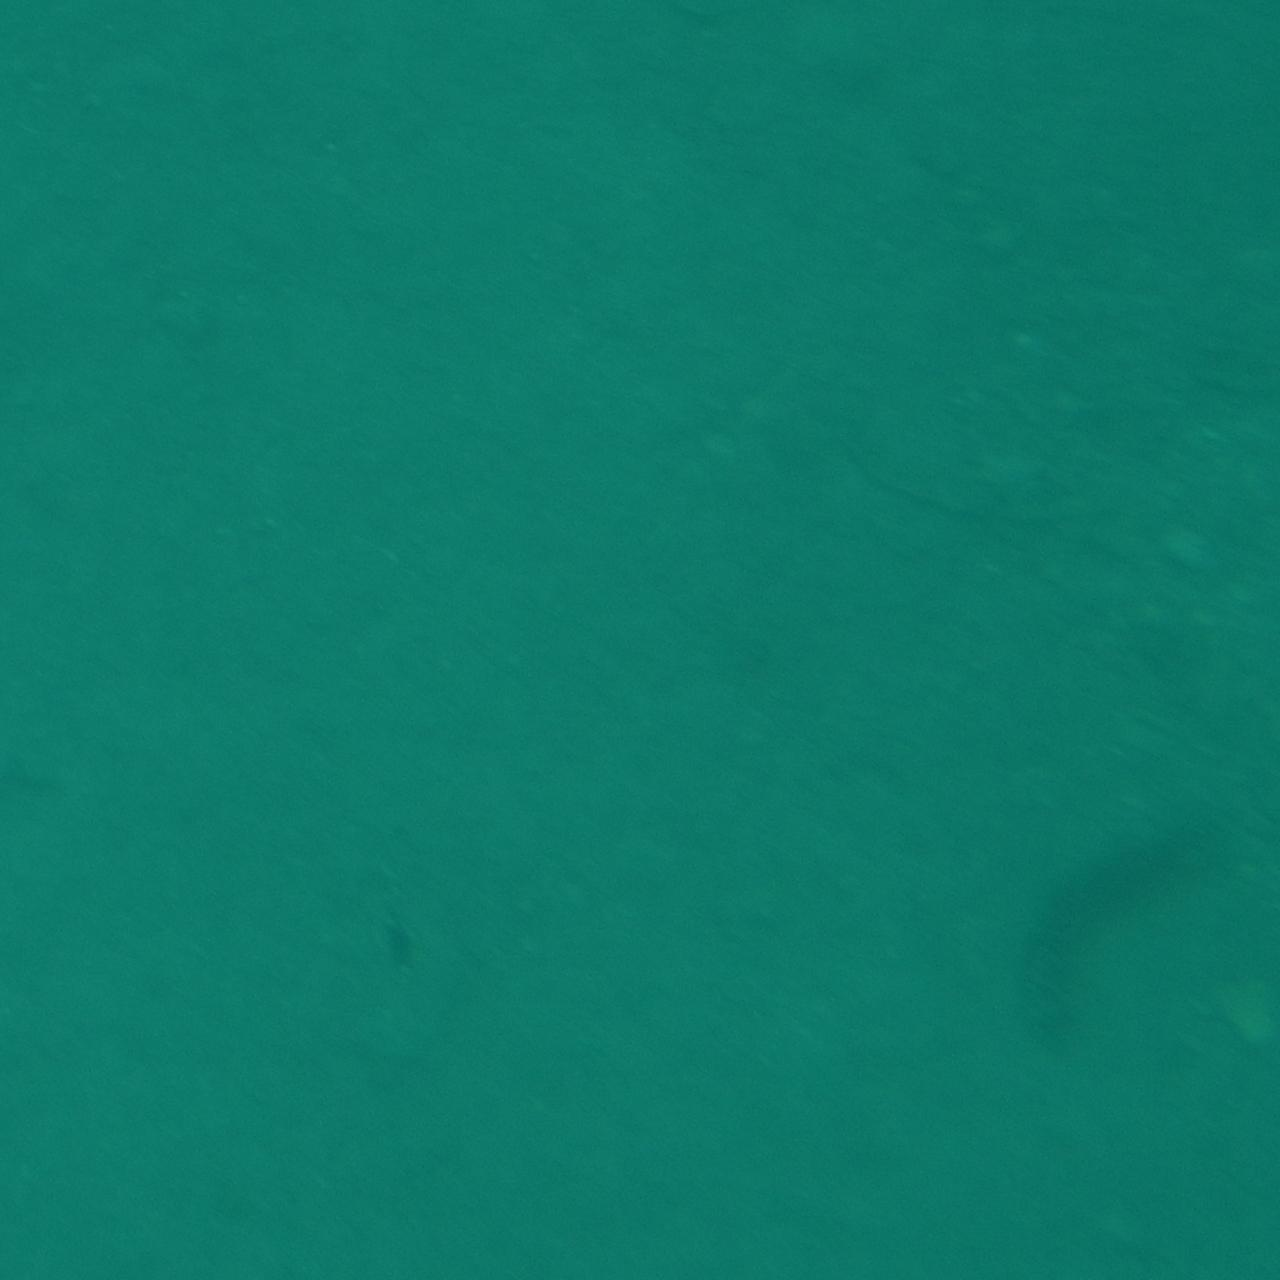Holothuria tubulosa: (996, 791, 1269, 1070)
